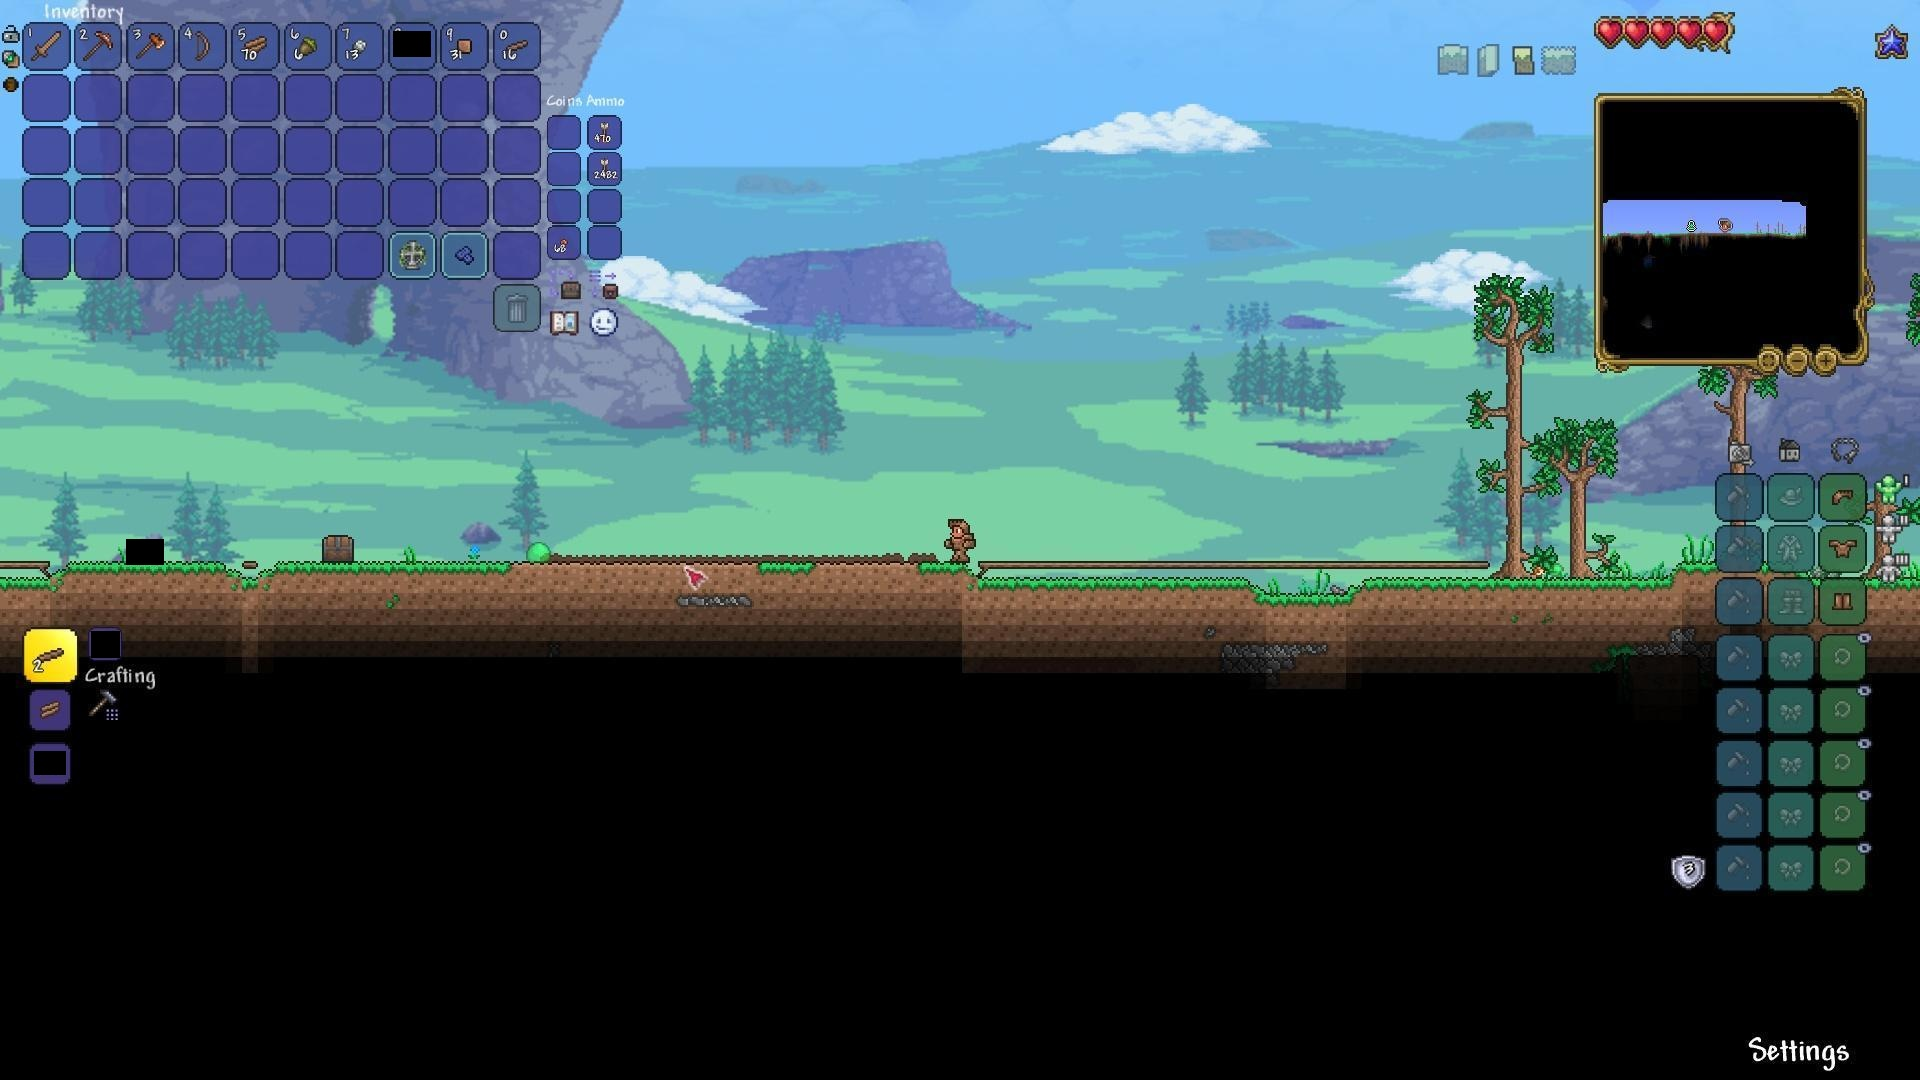breastplate: (1829, 537, 1858, 558)
helmet: (1826, 484, 1857, 510)
legs: (1832, 588, 1855, 616)
slime: (526, 539, 551, 567)
wood: (36, 695, 65, 721), (243, 34, 272, 61)
